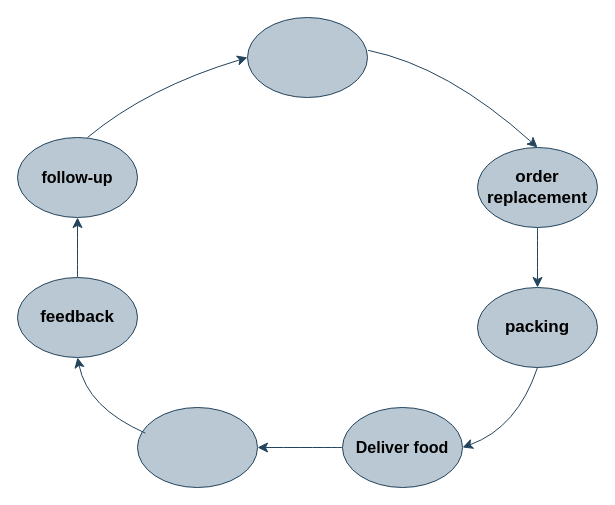
The diagram is 615 pixels wide and 505 high, and some of its shapes have lost their labels. The box of each missing label's shape, as (x1, y1, x2, y2) in pixels:
payement: (136, 406, 258, 488)
sign up: (246, 16, 368, 98)
